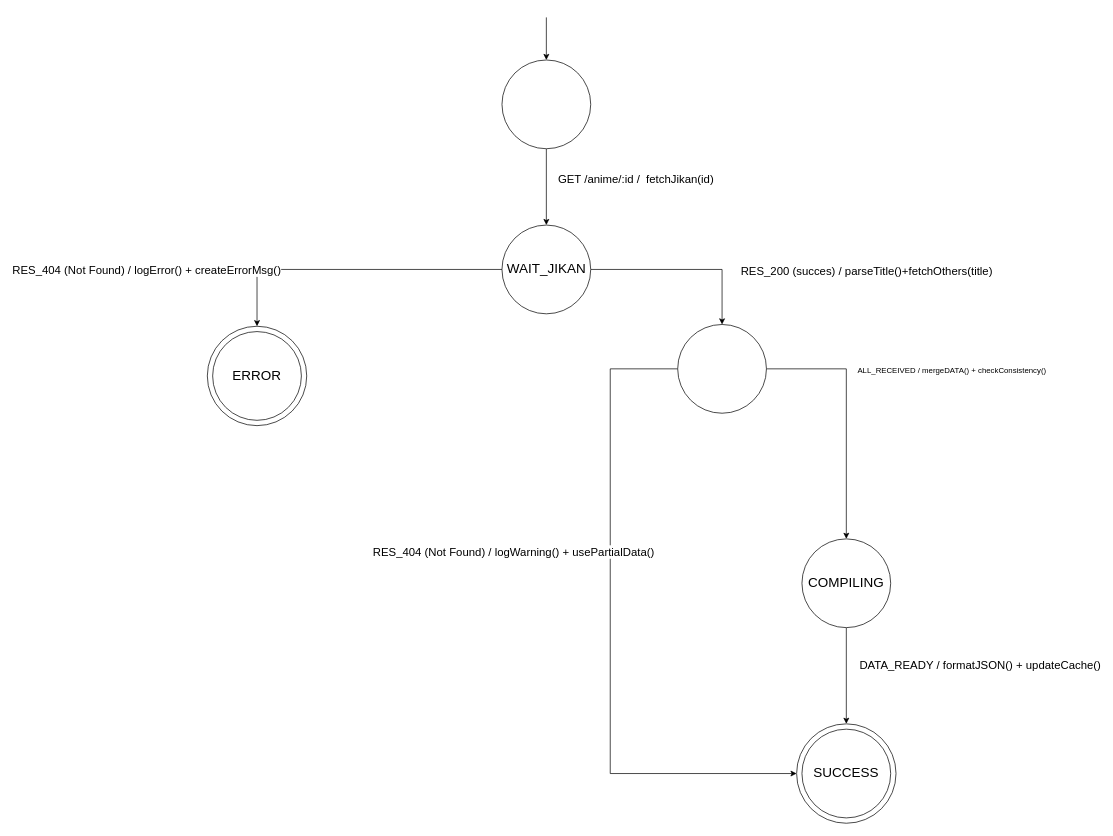
The diagram is 1113 pixels wide and 836 high, and some of its shapes have lost their labels. Each missing label, with the centre of its shape:
IDLE: point 546,104
WAIT_EXTRAS: point 721,368
